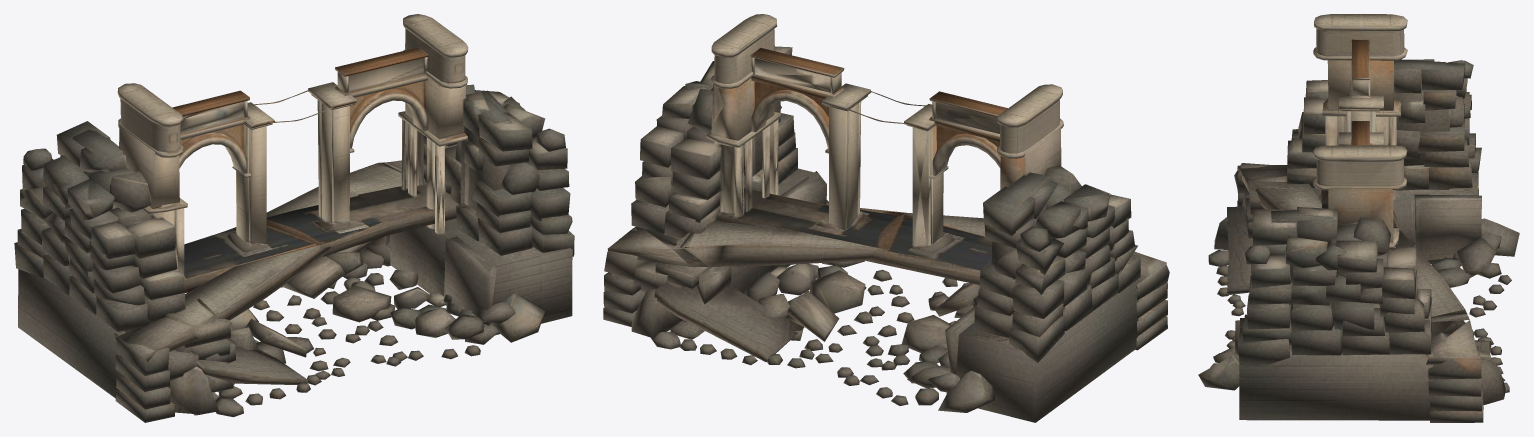
Rendered from causeway-broken.glb.
3 renders of one model, left to right at view 1: azimuth 30°, elevation 25°; view 2: azimuth 150°, elevation 25°; view 3: azimuth 270°, elevation 25°, orthographic. The views are drawn at different scales.
Parts seen in each view (by area): view 1: causeway-broken; view 2: causeway-broken; view 3: causeway-broken.
Part boxes in pixels (x1,y1,x2,y2): causeway-broken: [14, 14, 574, 422]; causeway-broken: [603, 14, 1169, 422]; causeway-broken: [1198, 14, 1519, 422].
Size of the model in its own units: 8 by 4.63 by 5.54.
Materials: 1 (1 with a texture image).
